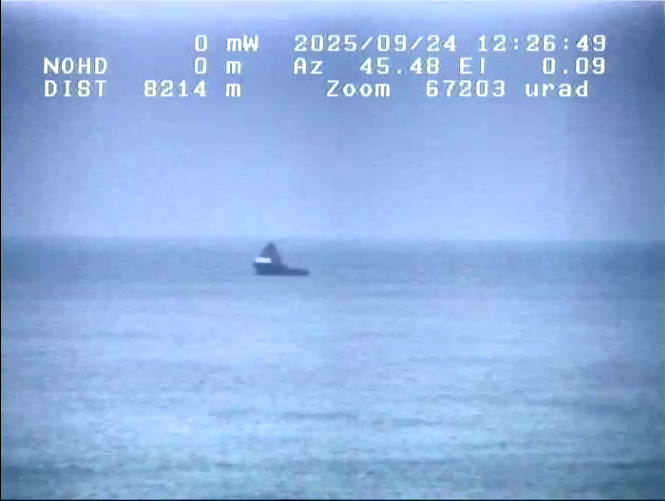OFFSHORE_SUPPLY_VESSEL: (235, 225, 338, 289)
